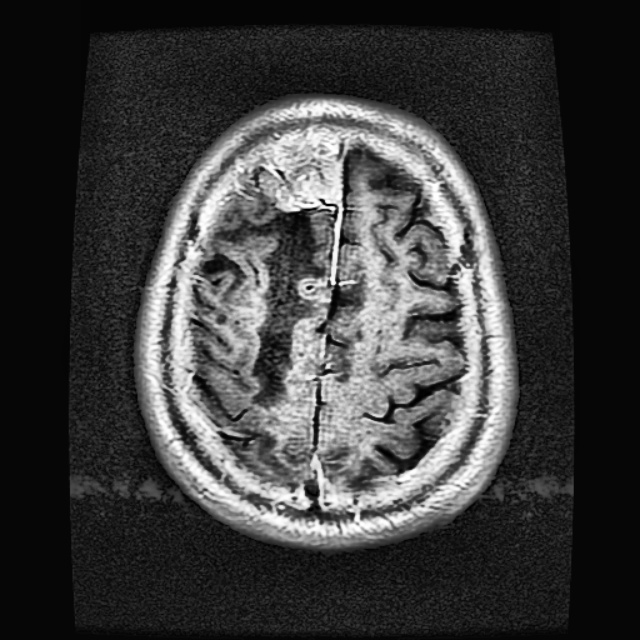Pituitary: (255, 138, 342, 210)
